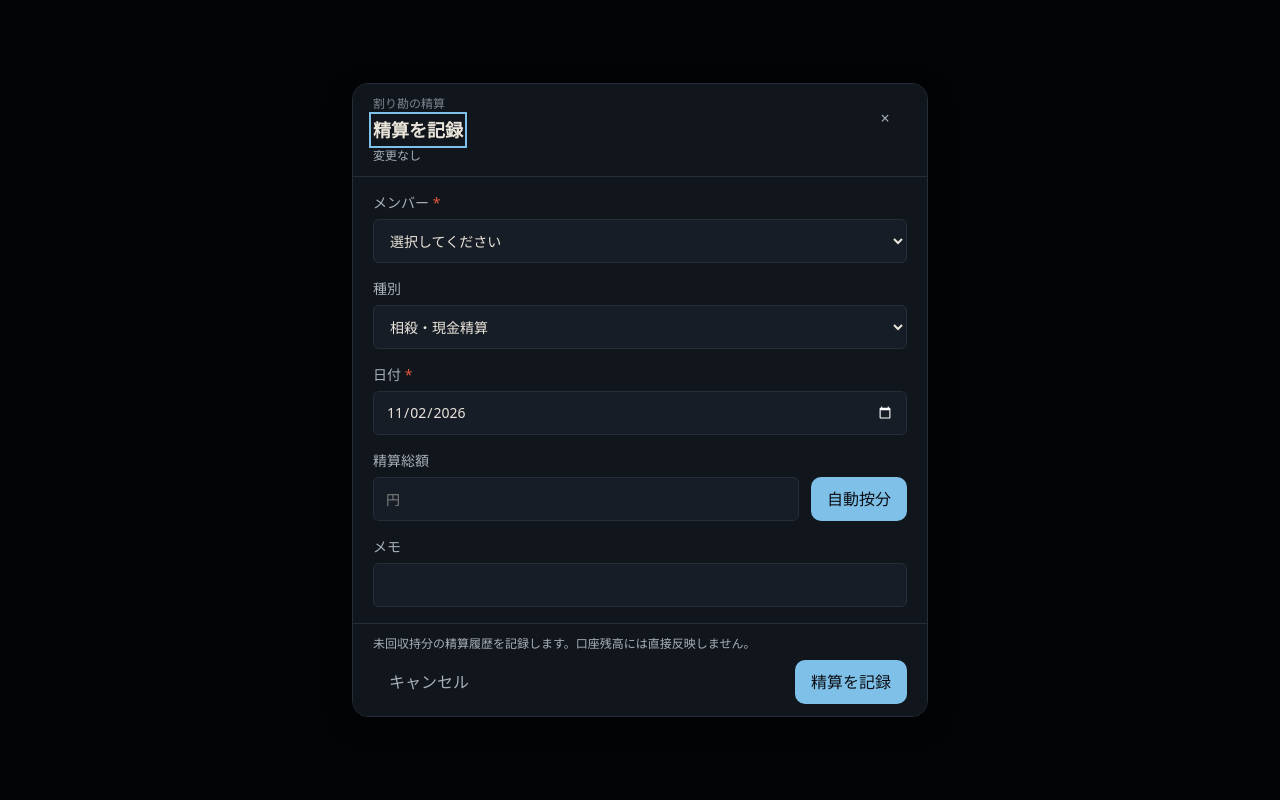
Test case: CreateSettlementDialog › keeps working when no transfer candidates exist
The image size is (1280, 800).
Select "振替取引で精算" in the dropdown labelled "種別": coordinates (640, 327) [373, 305, 907, 349]
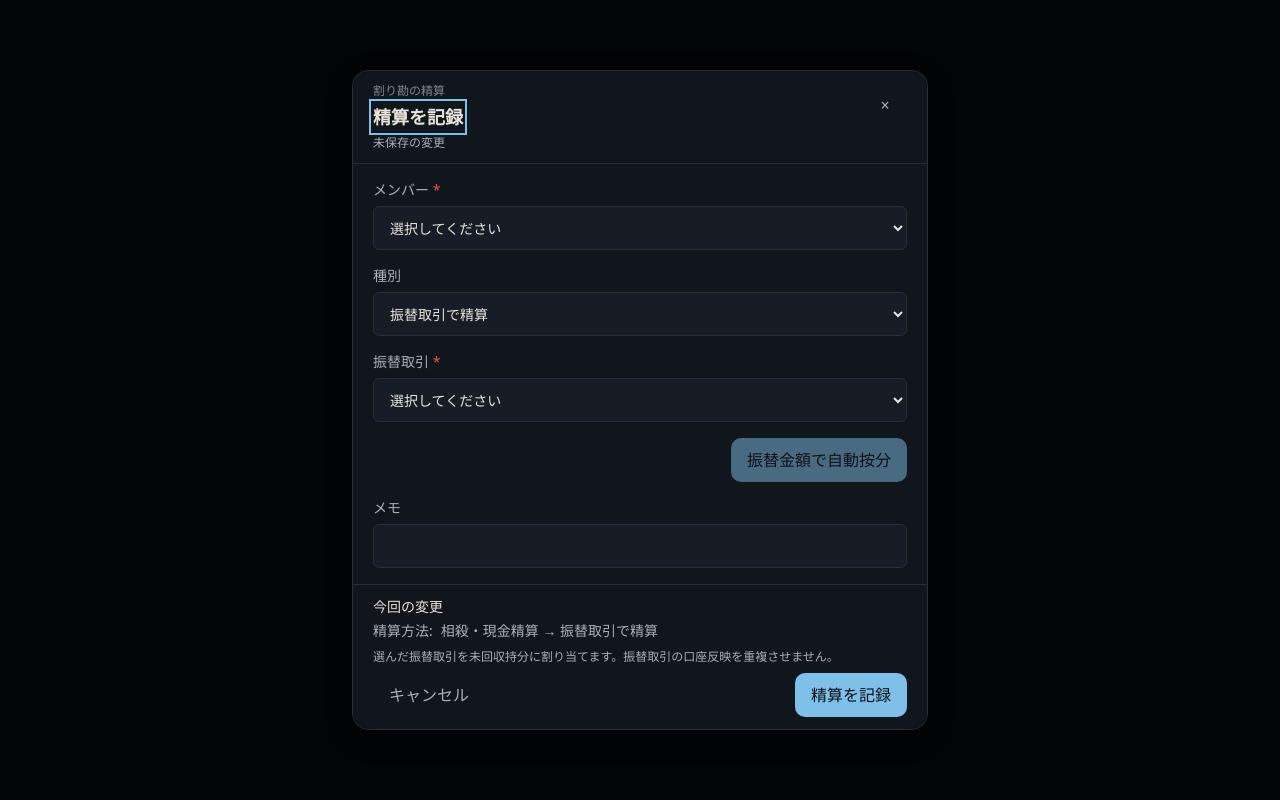
Check: the dropdown labelled "振替取引 *" shows "選択してください", box [373, 378, 907, 422]
Check: the text "総額" is gone
